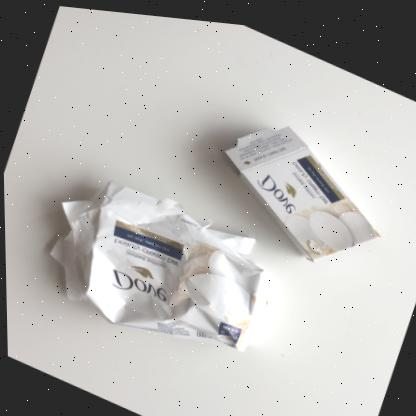Paper: (222, 120, 380, 256)
Plastic: (49, 176, 263, 347)
